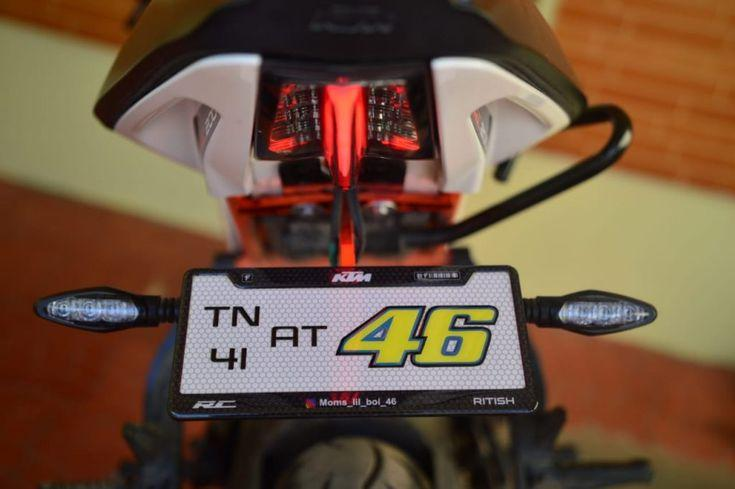licence-plate: (192, 285, 516, 387)
